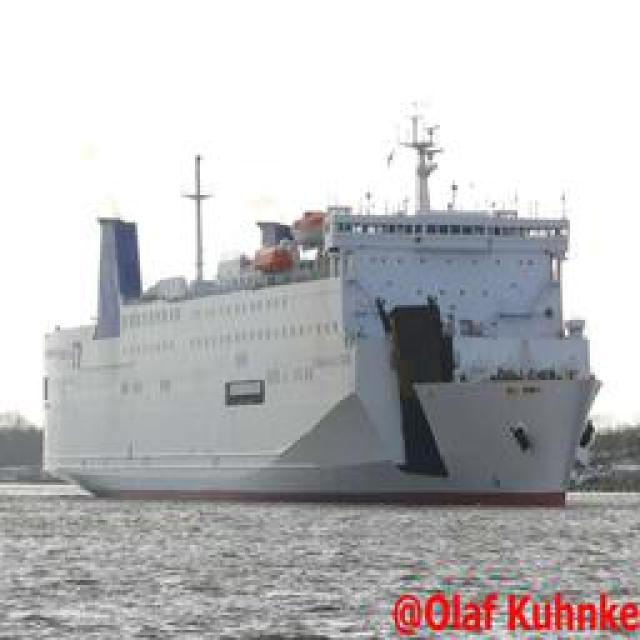Ship: (46, 144, 604, 504)
